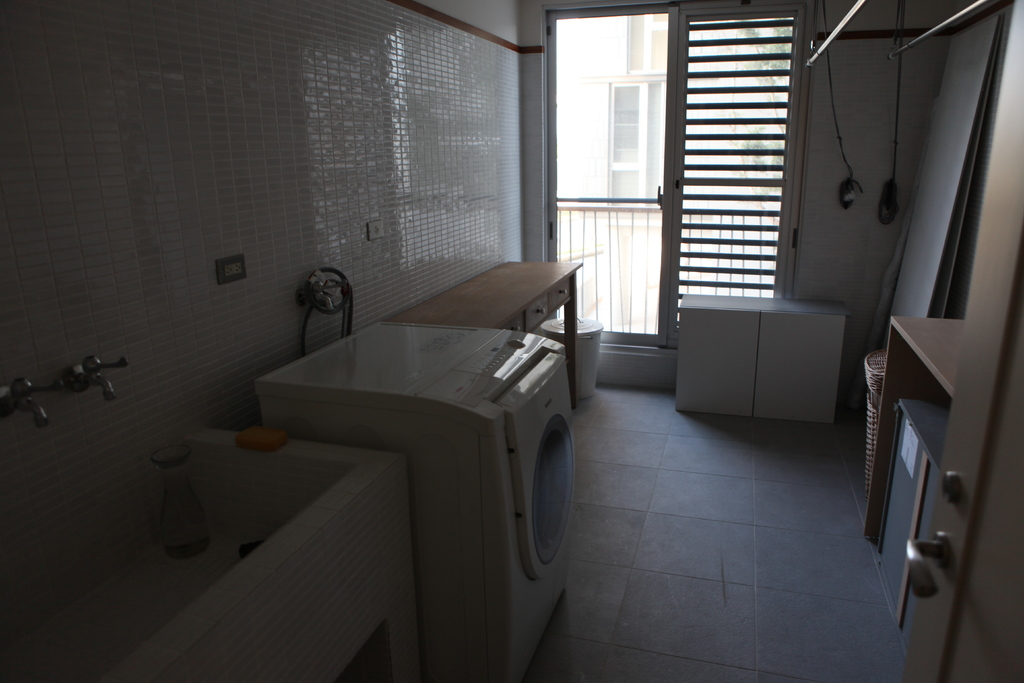tap: (298, 268, 335, 315)
